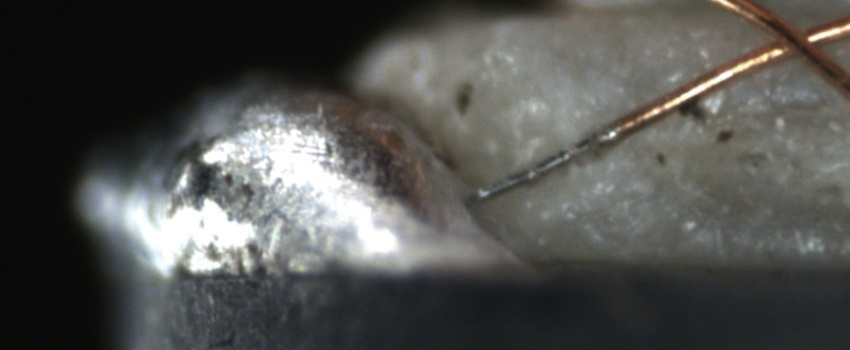CL: (752, 8, 838, 67)
DL: (676, 92, 850, 150)
TS: (466, 130, 615, 203)
TTCW: (460, 96, 663, 206)
